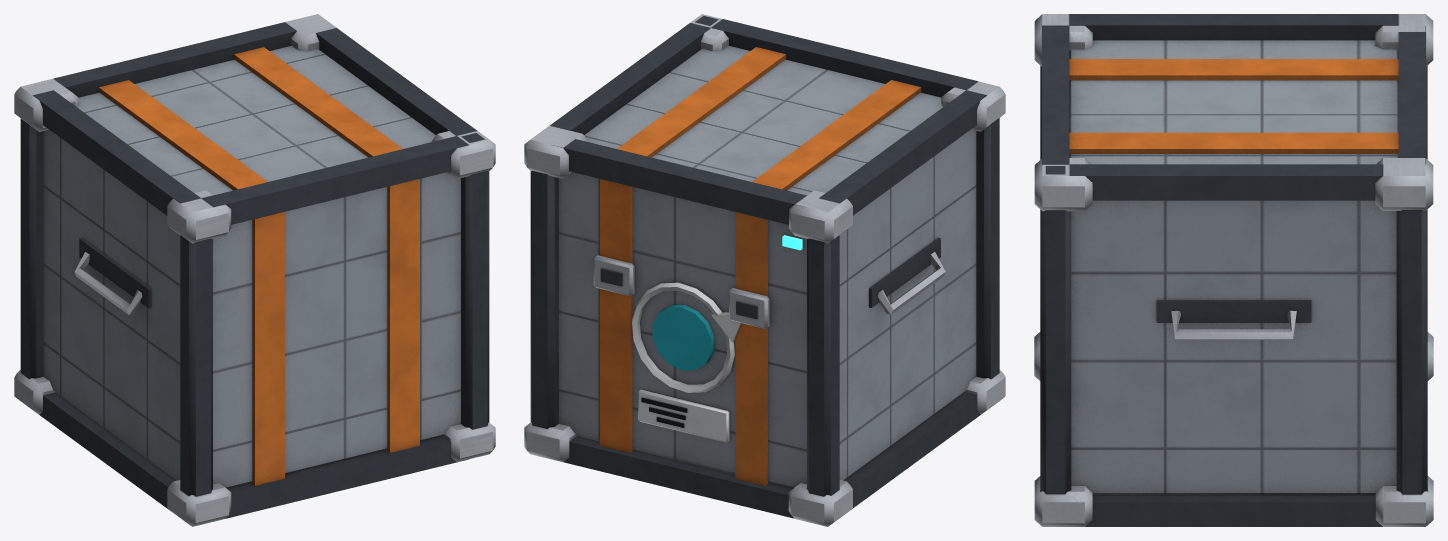
Rendered from caja_envio.fbx.
3 views of the same model, side by side, from view 1: azimuth 30°, elevation 25°; view 2: azimuth 150°, elevation 25°; view 3: azimuth 270°, elevation 25° (orthographic). The views are drawn at different scales.
Parts seen in each view (by area): view 1: caja_envio; view 2: caja_envio; view 3: caja_envio.
Boxes of the visible parts, left/top/right/bottom form: caja_envio: left=14, top=14, right=495, bottom=526; caja_envio: left=524, top=14, right=1005, bottom=526; caja_envio: left=1034, top=14, right=1433, bottom=526.
Bounding box in the file's own units: 2.06 × 2 × 2.06.
2 materials, 2 textured.
